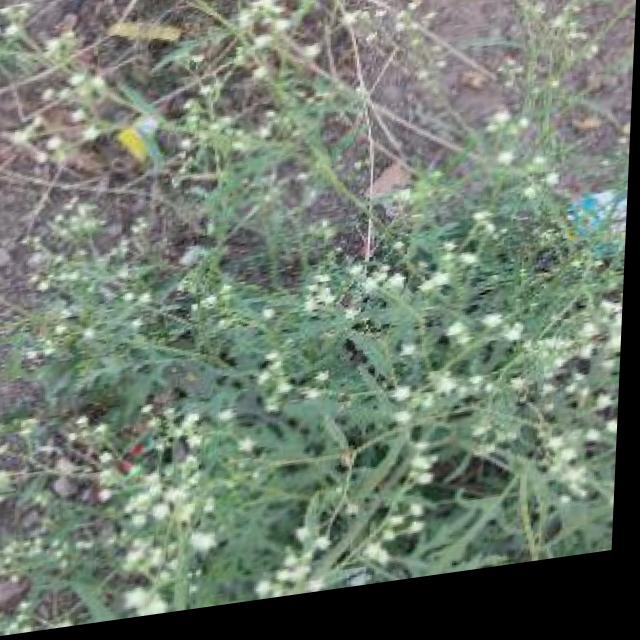weed: (0, 0, 640, 638)
